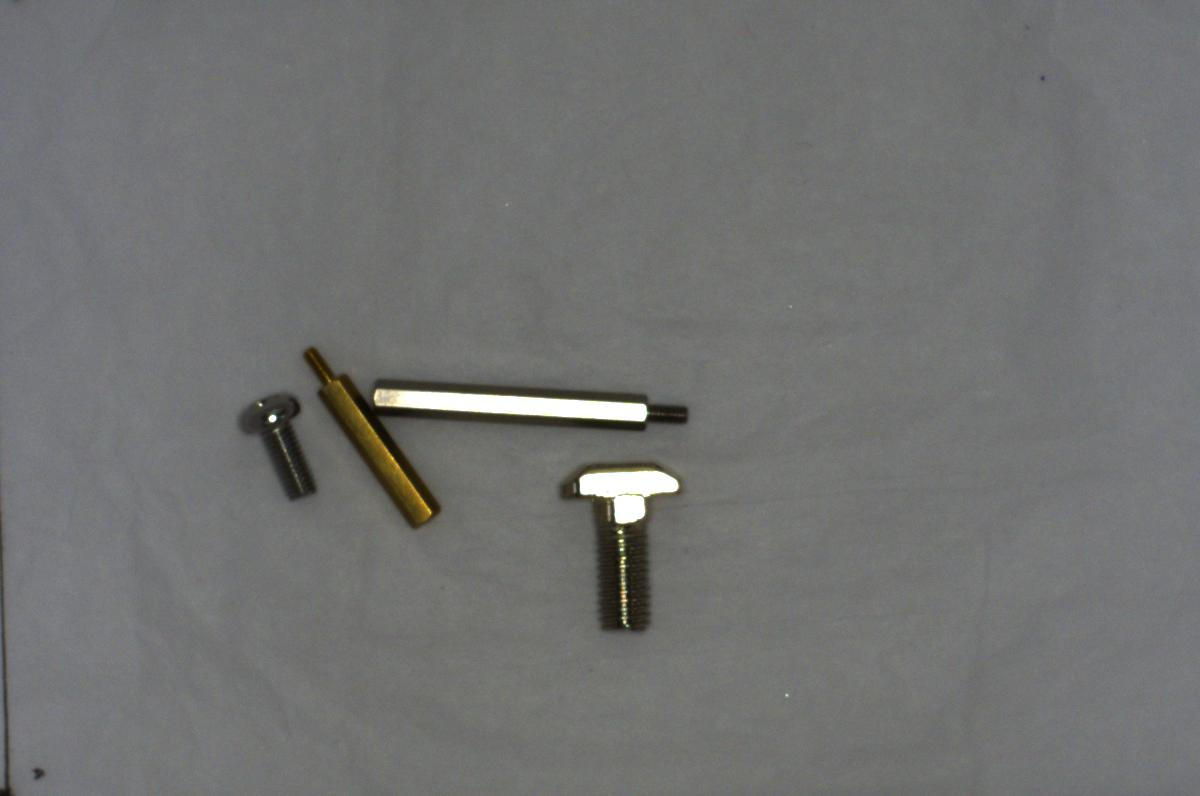Hexagon pillar: (293, 336, 440, 530)
Hexagonal steel column: (355, 365, 693, 440)
Round head screw: (217, 388, 319, 501)
T-shaped screw: (554, 447, 687, 640)
